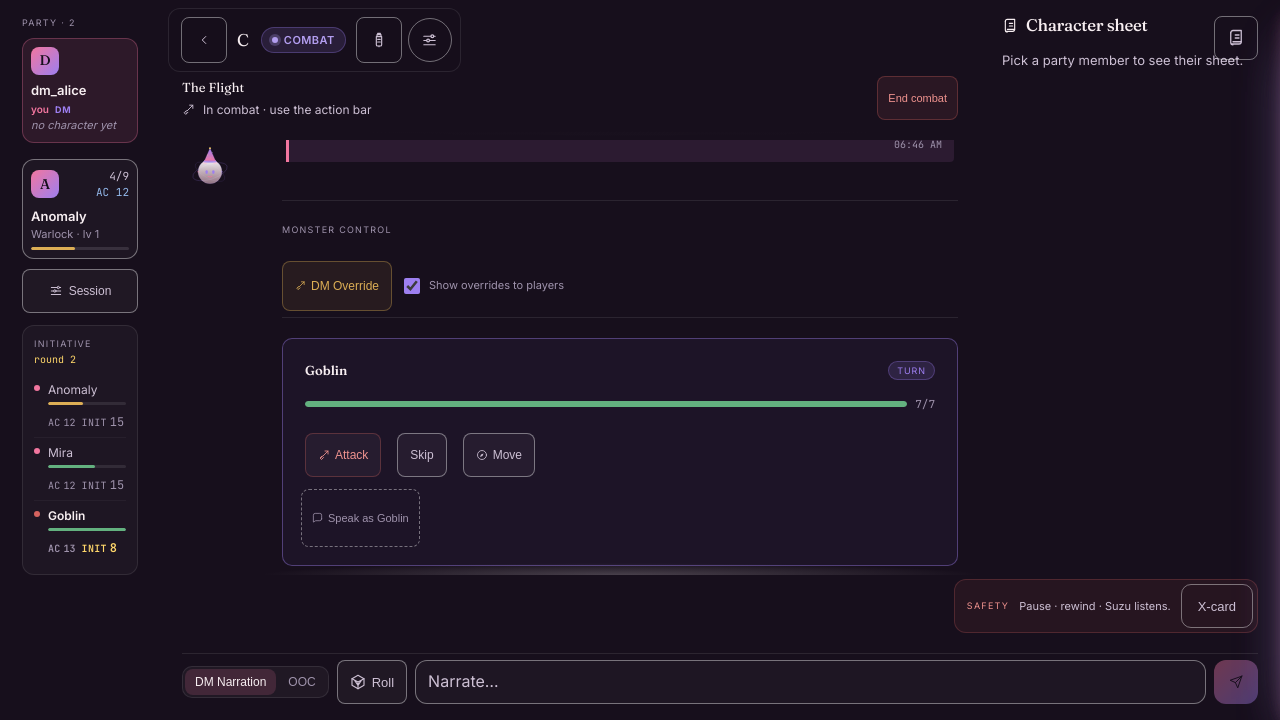
Test: CP-3 (D14): the hold lands under an open override dialog while a character is still standing (no Revive radio to take focus) › focus stays in the dialog (the Character select), never <body>
(page scrolled)
Expected: the text "In combat · use the action bar" is shown, [182,102,372,116]
What coordinates should you click on to do the following:
click the button with aria-label "Open DM override modal"
I would click on:
 (337, 286)
Its box is [282,260,392,310].
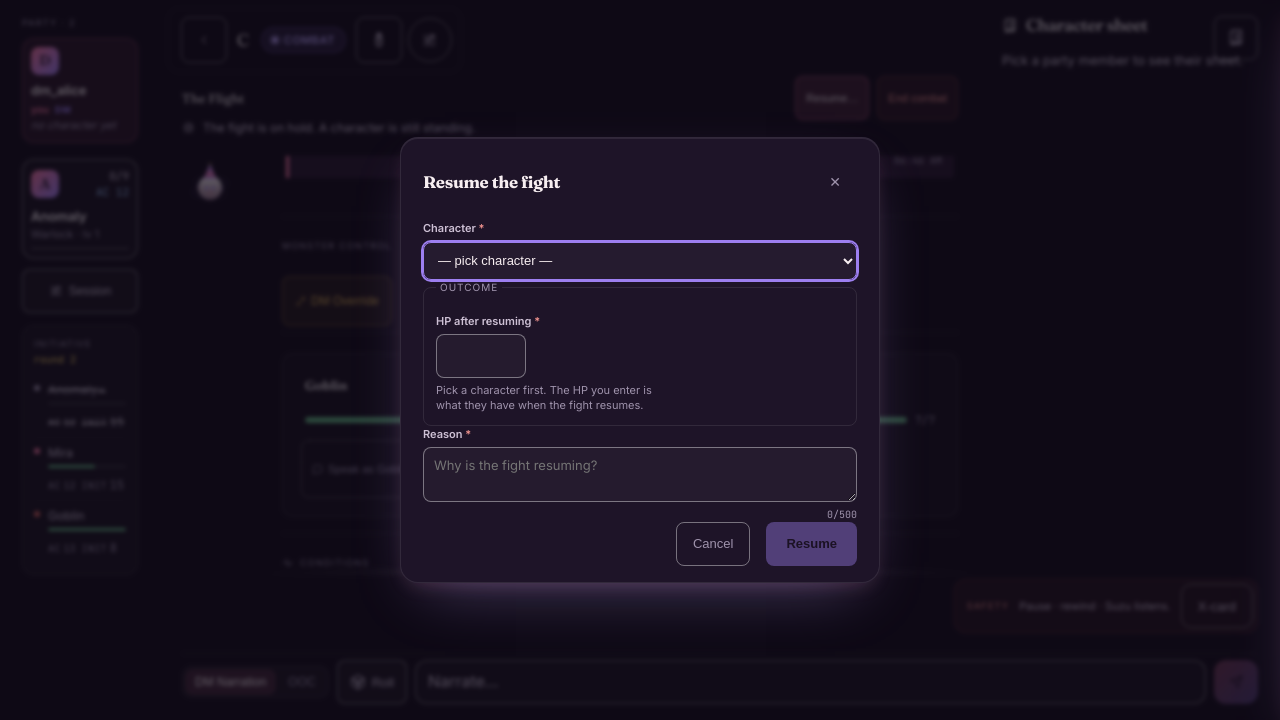
Now the dialog "Resume the fight" is shown, box [400,137,880,583]
